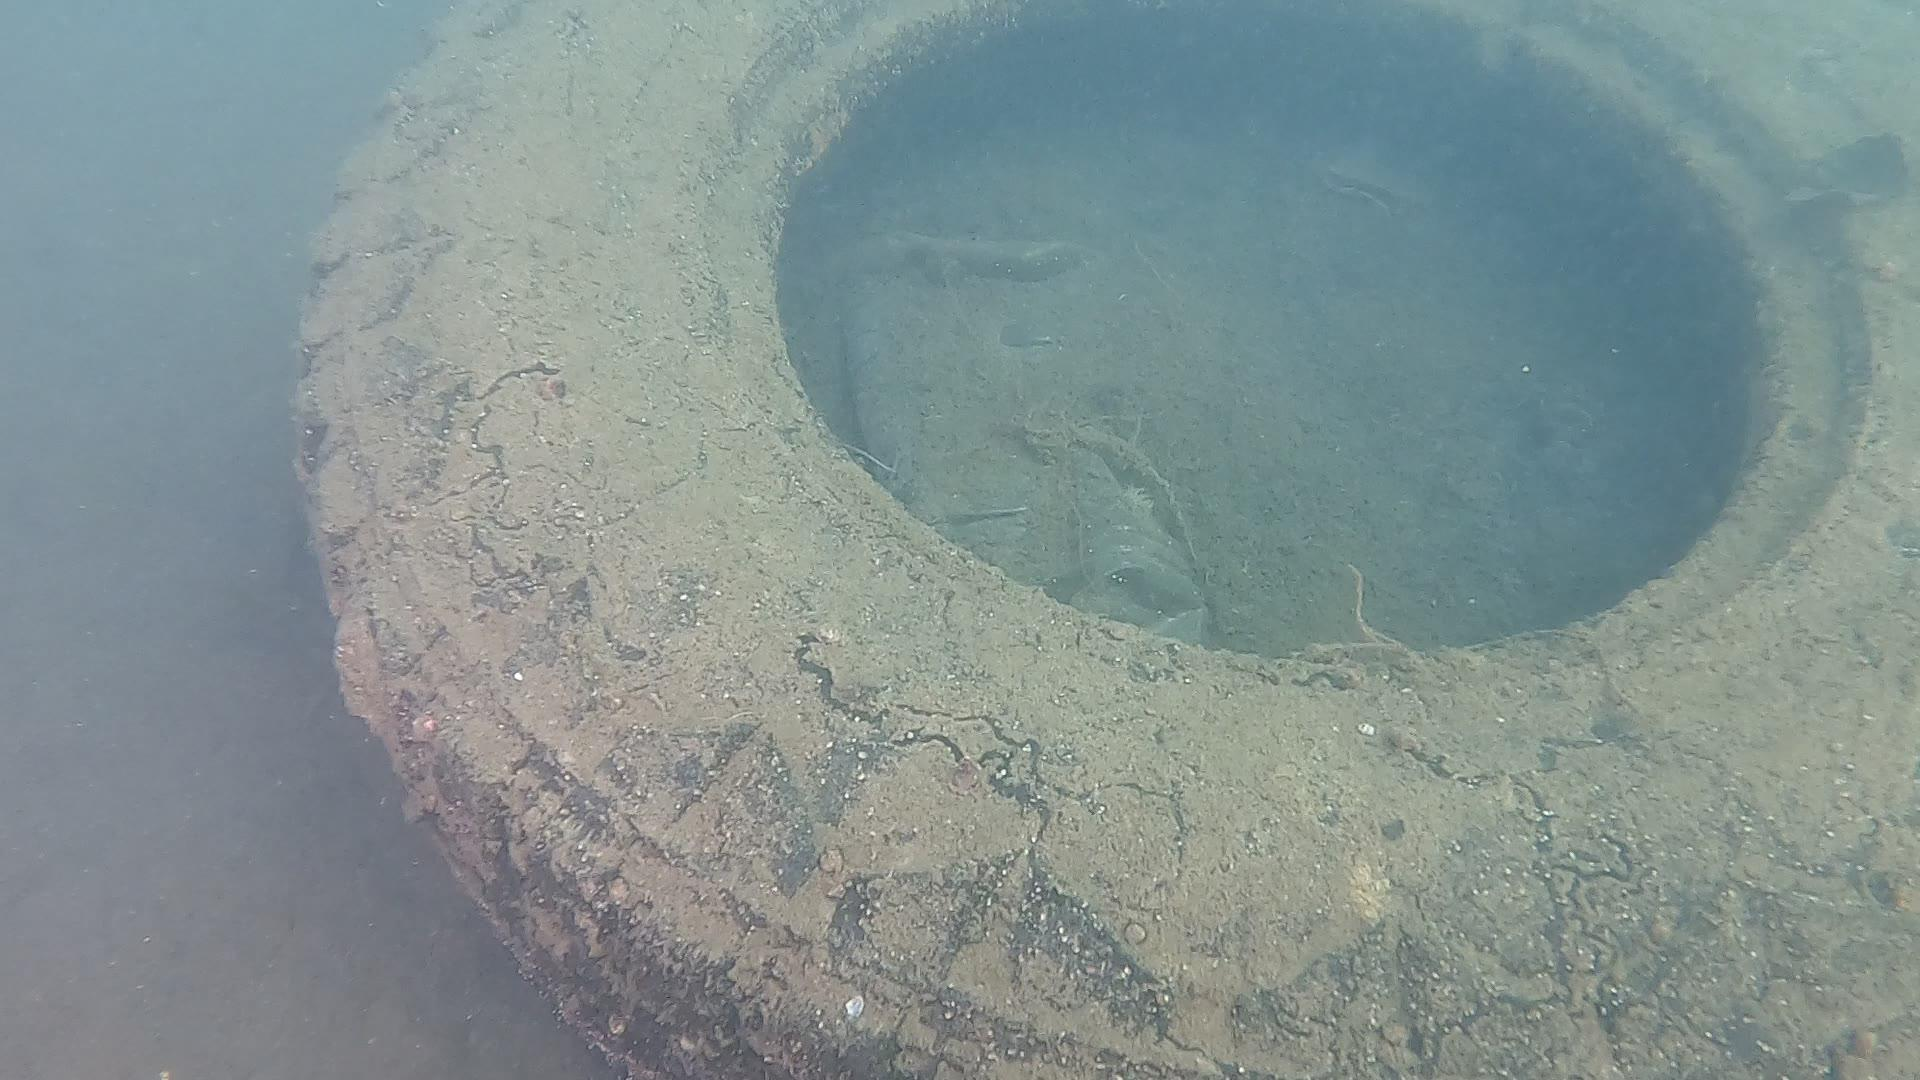tire: (302, 0, 1920, 1080)
